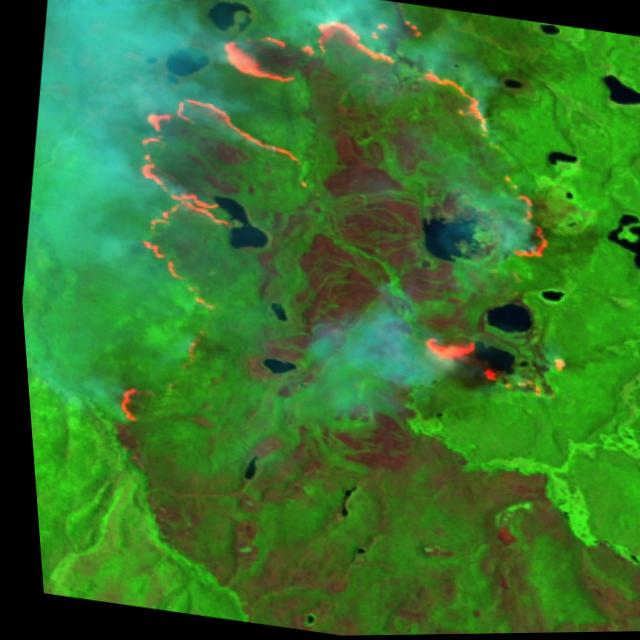fire: (81, 0, 624, 496)
